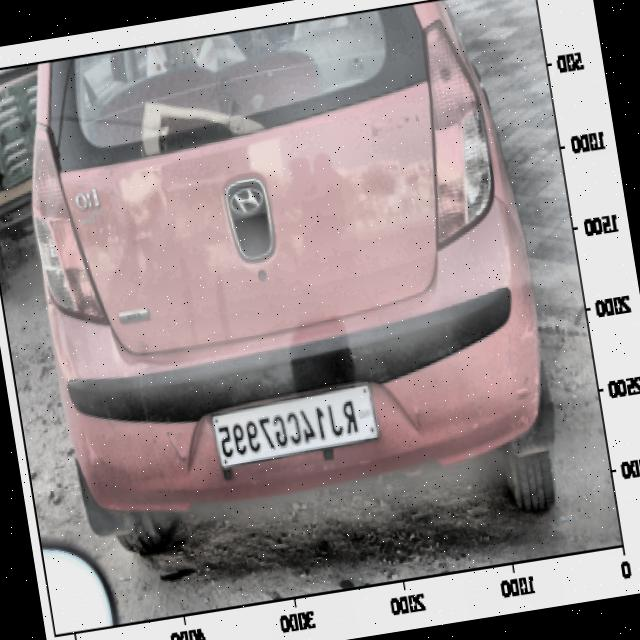license_plate: (212, 388, 370, 471)
